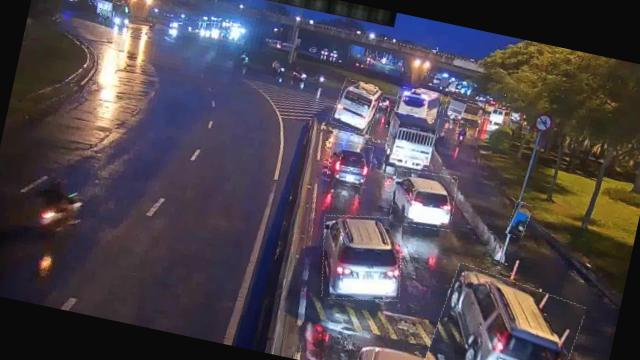Bike: (506, 200, 532, 239), (454, 121, 470, 146)
Bus: (331, 78, 383, 134), (394, 86, 444, 128)
Car: (422, 263, 585, 360), (312, 206, 412, 310), (388, 166, 461, 232), (324, 139, 374, 188)
Truck: (383, 110, 440, 170), (442, 95, 485, 128)
